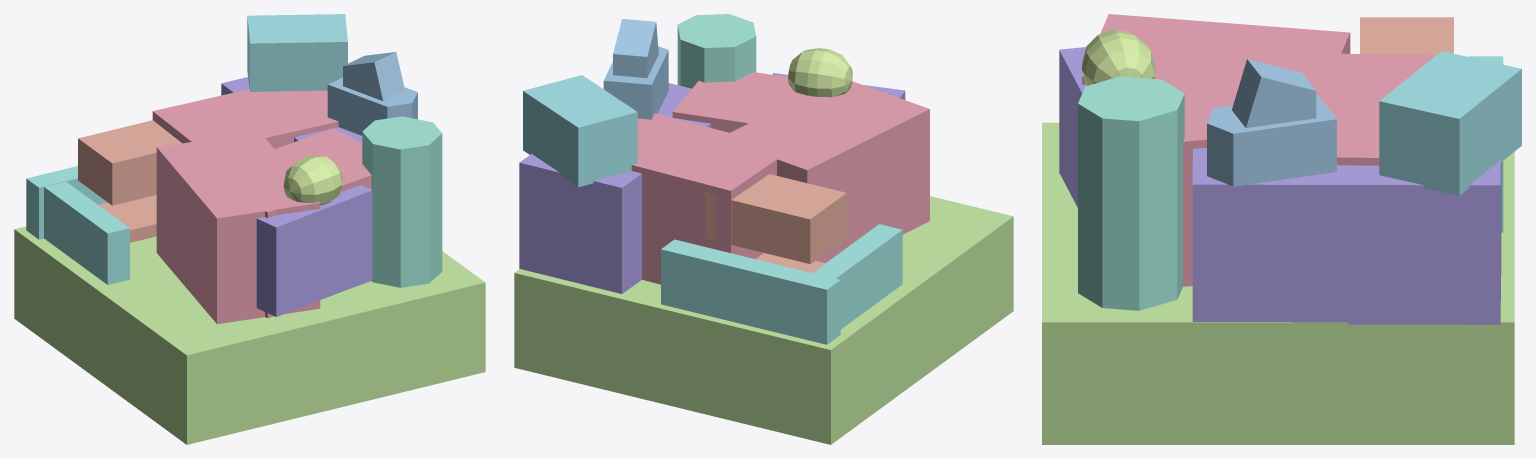
Rendered from repairstation.glb.
The picture shows the model from 3 angles, left to right: view 1: azimuth 30°, elevation 25°; view 2: azimuth 150°, elevation 25°; view 3: azimuth 270°, elevation 25°; orthographic projection. The views are drawn at different scales.
Visible parts, largest first — view 1: S1|SM_RepairStation_stage1#0, S4|SM_Commercial_Wooden_Crate_01#0, S5|SM_Tool_Drawers_Wheeled_01a#0, S5|SM_TyreStack_Low_01#1, S5|SM_BuildToolsSupply#2, S3|SM_Commercial_Wooden_Crate_01#0, S3|SM_Commercial_Wooden_Crate_01#1, S4|SM_Tool_Drawers_Wheeled_02a#0, S5|SM_Generator_Portable_02a#0, S5|S_Sandbag_Barrier_udtvadqfa_high_Var1#0, S4|SM_TyreStack_Low_01#0, S4|S_Sandbag_Barrier_udtvadqfa_high_Var1#0 (+6 smaller); view 2: S1|SM_RepairStation_stage1#0, S4|SM_Commercial_Wooden_Crate_01#0, S3|SM_Commercial_Wooden_Crate_01#0, S5|SM_StallDesk_03a#0, S5|SM_BuildToolsSupply#2, S4|SM_Tool_Drawers_Wheeled_02a#0, S4|S_Sandbag_Barrier_udtvadqfa_high_Var1#0, S3|S_Sandbag_Barrier_udtvadqfa_high_Var1#0, S5|S_Sandbag_Barrier_udtvadqfa_high_Var1#0, S2|S_Sandbag_Barrier_udtvadqfa_high_Var1#0, S5|SM_TyreStack_Low_01#1, S3|SM_Commercial_Wooden_Crate_01#1 (+4 smaller); view 3: S1|SM_RepairStation_stage1#0, S5|SM_StallDesk_03a#0, S5|SM_TyreStack_Low_01#1, S5|SM_BuildToolsSupply#2, S5|SM_Generator_Portable_02a#0, S4|SM_Commercial_Wooden_Crate_01#0, S4|SM_TyreStack_Low_01#0, S3|SM_Commercial_Wooden_Crate_01#0, S4|SM_StallDesk_03a#0, S3|SM_Commercial_Wooden_Crate_01#1, S5|SM_TyreStack_Low_01#0, S4|SM_Tool_Drawers_Wheeled_02a#0 (+3 smaller).
Part boxes in pixels (x1,y1,x2,y2): S1|SM_RepairStation_stage1#0: (14, 226, 485, 444); S4|SM_Commercial_Wooden_Crate_01#0: (156, 131, 320, 324); S5|SM_Tool_Drawers_Wheeled_01a#0: (256, 185, 372, 316); S5|SM_TyreStack_Low_01#1: (362, 116, 442, 251); S5|SM_BuildToolsSupply#2: (247, 14, 347, 91); S3|SM_Commercial_Wooden_Crate_01#0: (152, 89, 338, 148); S3|SM_Commercial_Wooden_Crate_01#1: (197, 128, 371, 318); S4|SM_Tool_Drawers_Wheeled_02a#0: (78, 120, 167, 240); S5|SM_Generator_Portable_02a#0: (327, 52, 417, 135); S5|S_Sandbag_Barrier_udtvadqfa_high_Var1#0: (26, 166, 129, 279); S4|SM_TyreStack_Low_01#0: (380, 178, 434, 287); S4|S_Sandbag_Barrier_udtvadqfa_high_Var1#0: (26, 179, 129, 284); S1|SM_RepairStation_stage1#0: (514, 196, 1013, 444); S4|SM_Commercial_Wooden_Crate_01#0: (730, 81, 929, 262); S3|SM_Commercial_Wooden_Crate_01#0: (631, 113, 791, 284); S5|SM_StallDesk_03a#0: (519, 84, 688, 293); S5|SM_BuildToolsSupply#2: (523, 75, 637, 187); S4|SM_Tool_Drawers_Wheeled_02a#0: (705, 174, 846, 272); S4|S_Sandbag_Barrier_udtvadqfa_high_Var1#0: (661, 231, 902, 344); S3|S_Sandbag_Barrier_udtvadqfa_high_Var1#0: (661, 246, 902, 344); S5|S_Sandbag_Barrier_udtvadqfa_high_Var1#0: (661, 224, 902, 342); S2|S_Sandbag_Barrier_udtvadqfa_high_Var1#0: (661, 262, 902, 344); S5|SM_TyreStack_Low_01#1: (677, 14, 756, 88); S3|SM_Commercial_Wooden_Crate_01#1: (672, 72, 890, 133); S1|SM_RepairStation_stage1#0: (1042, 122, 1514, 444); S5|SM_StallDesk_03a#0: (1193, 148, 1501, 324); S5|SM_TyreStack_Low_01#1: (1078, 76, 1184, 263); S5|SM_BuildToolsSupply#2: (1379, 51, 1521, 195); S5|SM_Generator_Portable_02a#0: (1207, 59, 1336, 186); S4|SM_Commercial_Wooden_Crate_01#0: (1082, 14, 1350, 94); S4|SM_TyreStack_Low_01#0: (1083, 147, 1182, 310); S3|SM_Commercial_Wooden_Crate_01#0: (1303, 53, 1435, 165); S4|SM_StallDesk_03a#0: (1192, 147, 1500, 321); S3|SM_Commercial_Wooden_Crate_01#1: (1141, 32, 1249, 286); S5|SM_TyreStack_Low_01#0: (1078, 240, 1182, 310); S4|SM_Tool_Drawers_Wheeled_02a#0: (1360, 17, 1453, 54).
Bounding box in the file's own units: 3.19 × 2.59 × 3.12.
